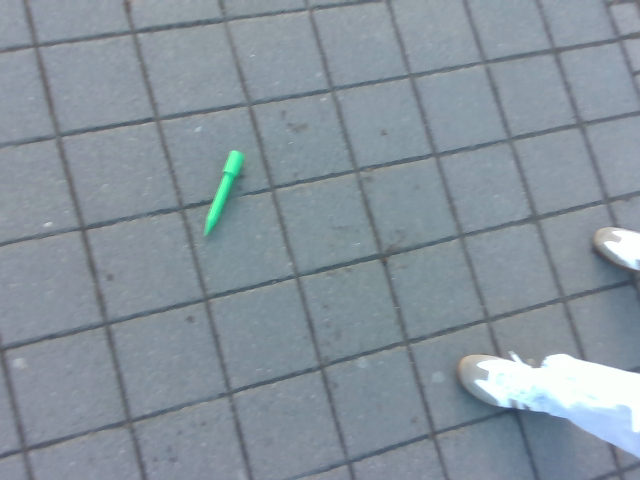Probe: (199, 145, 251, 245)
